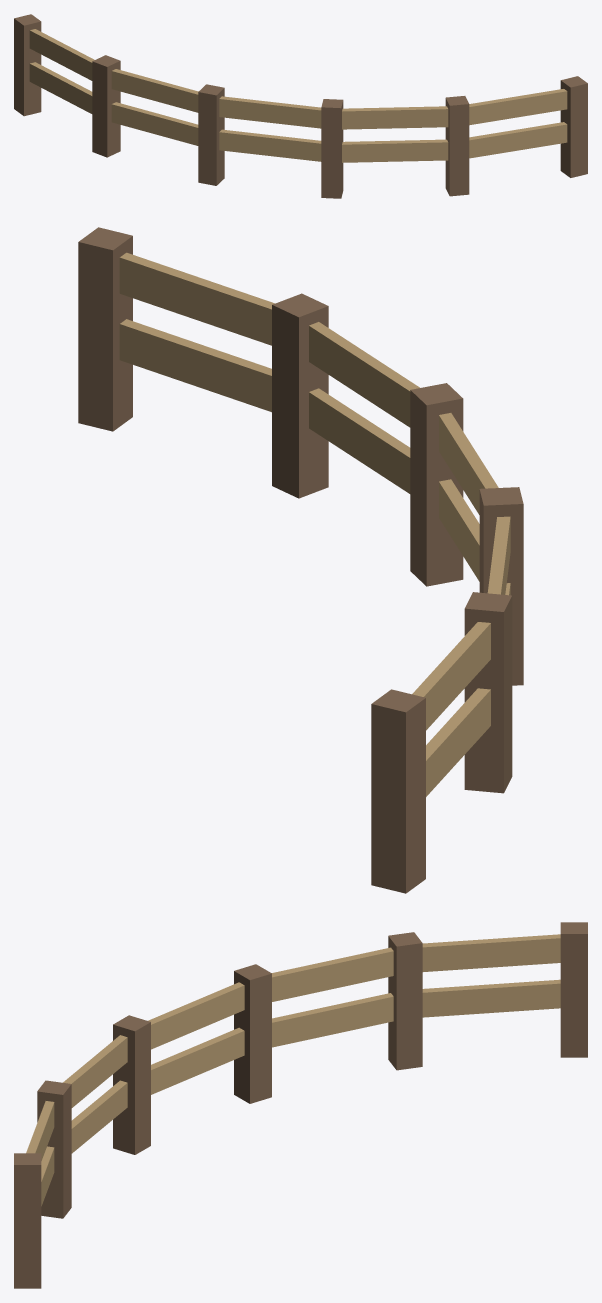
Rendered from Hilly_Prop_Fence_Curve_3x3.obj.
The picture shows the model from 3 angles, top to bottom: view 1: azimuth 30°, elevation 25°; view 2: azimuth 150°, elevation 25°; view 3: azimuth 270°, elevation 25°; orthographic projection. The views are drawn at different scales.
Parts seen in each view (by area): view 1: object1, object2, object9, object8, object15, object4, object7, object13, object3, object10, object11, object6 (+4 smaller); view 2: object3, object2, object8, object10, object1, object6, object11, object15, object4, object9, object16, object5 (+3 smaller); view 3: object9, object1, object10, object5, object16, object2, object3, object14, object12, object8, object7, object13 (+4 smaller).
Part boxes in pixels (bbox=[...]): object1: bbox=[92, 55, 120, 157]; object2: bbox=[560, 76, 587, 177]; object9: bbox=[198, 84, 224, 185]; object8: bbox=[445, 96, 469, 196]; object15: bbox=[342, 106, 448, 129]; object4: bbox=[342, 139, 448, 162]; object7: bbox=[219, 96, 321, 128]; object13: bbox=[219, 129, 321, 161]; object3: bbox=[14, 14, 41, 116]; object10: bbox=[321, 99, 343, 198]; object11: bbox=[469, 122, 567, 158]; object6: bbox=[469, 89, 567, 125]; object3: bbox=[371, 689, 425, 893]; object2: bbox=[78, 227, 132, 431]; object8: bbox=[272, 293, 328, 498]; object10: bbox=[410, 383, 463, 586]; object1: bbox=[464, 592, 512, 793]; object6: bbox=[119, 252, 274, 345]; object11: bbox=[119, 319, 271, 412]; object15: bbox=[309, 322, 419, 427]; object4: bbox=[309, 388, 410, 493]; object9: bbox=[479, 487, 523, 685]; object16: bbox=[412, 622, 490, 730]; object5: bbox=[426, 688, 490, 796]; object9: bbox=[234, 964, 271, 1103]; object1: bbox=[388, 932, 422, 1070]; object10: bbox=[113, 1015, 150, 1154]; object5: bbox=[422, 979, 560, 1017]; object16: bbox=[422, 934, 560, 971]; object2: bbox=[14, 1153, 41, 1288]; object3: bbox=[560, 922, 587, 1057]; object14: bbox=[272, 993, 393, 1047]; object12: bbox=[272, 947, 393, 1001]; object8: bbox=[37, 1080, 71, 1218]; object7: bbox=[148, 982, 244, 1049]; object13: bbox=[151, 1027, 244, 1094].
Size of the model in its own units: 3.15 by 0.7498 by 3.15.
